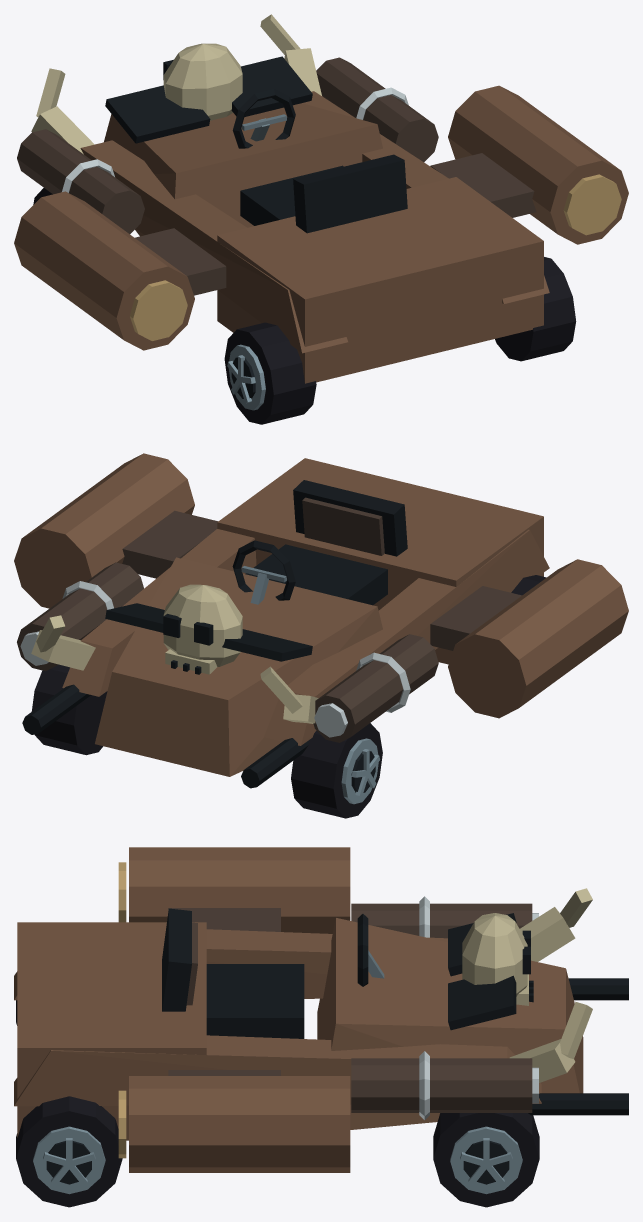
File: kart.glb
The picture shows the model from 3 angles, top to bottom: view 1: azimuth 30°, elevation 25°; view 2: azimuth 150°, elevation 25°; view 3: azimuth 270°, elevation 25°; orthographic projection. The views are drawn at different scales.
Visible parts, largest first — view 1: identity-gunship-gunship-armored-cargo-fuselage, identity-gunship-motif-plasma, identity-gunship-driver-cockpit, wheel-rear-left, identity-gunship-motif-skull, wheel-rear-right, identity-gunship-motif-tusks; view 2: identity-gunship-gunship-armored-cargo-fuselage, identity-gunship-driver-cockpit, identity-gunship-motif-plasma, wheel-front-left, identity-gunship-motif-skull, wheel-front-right, identity-gunship-motif-tusks; view 3: identity-gunship-gunship-armored-cargo-fuselage, identity-gunship-motif-plasma, identity-gunship-driver-cockpit, wheel-rear-right, wheel-front-right, identity-gunship-motif-tusks, identity-gunship-motif-skull.
Boxes of the visible parts, x1,y1,x2,y2 form: identity-gunship-gunship-armored-cargo-fuselage: [14, 56, 628, 383]; identity-gunship-motif-plasma: [17, 57, 438, 233]; identity-gunship-driver-cockpit: [232, 89, 407, 233]; wheel-rear-left: [224, 322, 316, 424]; identity-gunship-motif-skull: [163, 43, 242, 120]; wheel-rear-right: [495, 257, 576, 361]; identity-gunship-motif-tusks: [31, 14, 321, 154]; identity-gunship-gunship-armored-cargo-fuselage: [14, 453, 628, 788]; identity-gunship-driver-cockpit: [232, 480, 407, 605]; identity-gunship-motif-plasma: [17, 562, 438, 742]; wheel-front-left: [291, 723, 382, 818]; identity-gunship-motif-skull: [163, 584, 242, 674]; wheel-front-right: [31, 664, 107, 755]; identity-gunship-motif-tusks: [31, 615, 318, 723]; identity-gunship-gunship-armored-cargo-fuselage: [14, 847, 628, 1172]; identity-gunship-motif-plasma: [351, 896, 538, 1120]; identity-gunship-driver-cockpit: [162, 908, 384, 1038]; wheel-rear-right: [16, 1096, 122, 1207]; wheel-front-right: [433, 1113, 539, 1207]; identity-gunship-motif-tusks: [509, 888, 592, 1082]; identity-gunship-motif-skull: [462, 913, 533, 1005].
Size of the model in its own units: 3 by 1.1 by 2.89.
